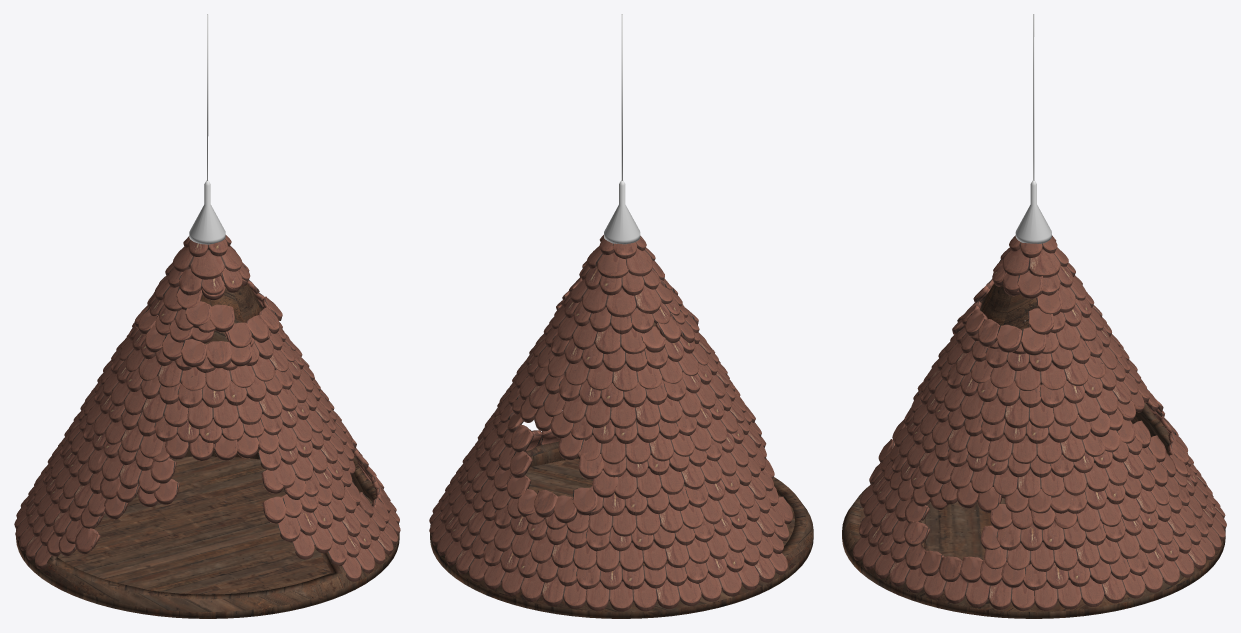
Rendered from conus_roof_LOD2.fbx.
3 renders of one model, left to right at view 1: azimuth 30°, elevation 25°; view 2: azimuth 150°, elevation 25°; view 3: azimuth 270°, elevation 25°, orthographic.
Parts seen in each view (by area): view 1: Fabric_flag.007; view 2: Fabric_flag.007; view 3: Fabric_flag.007.
Part boxes in pixels (bbox=[...]): Fabric_flag.007: bbox=[14, 14, 400, 618]; Fabric_flag.007: bbox=[429, 14, 813, 618]; Fabric_flag.007: bbox=[842, 14, 1226, 618].
Size of what is drawn, in the model's own units: 213 by 319 by 213.
